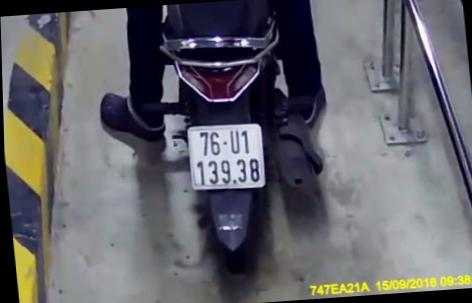LP: (183, 119, 266, 193)
